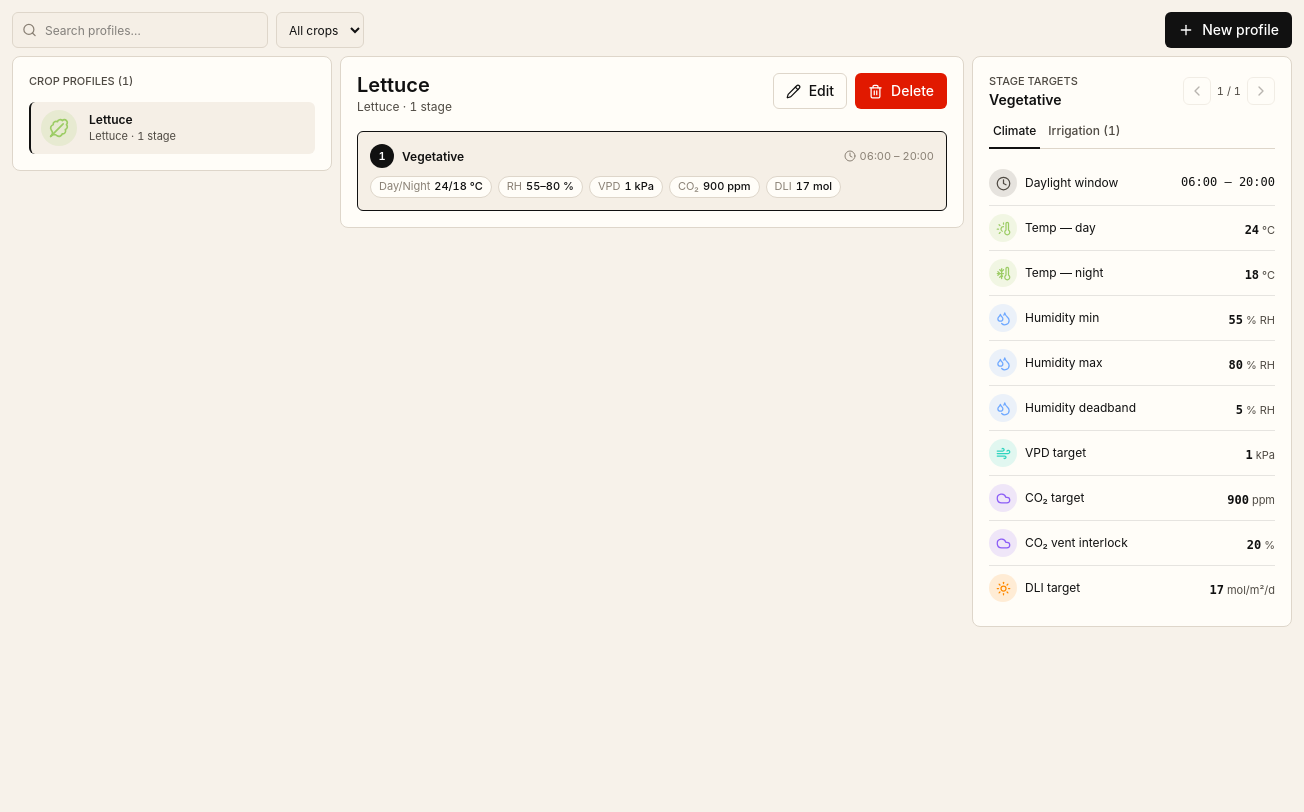
ProfileManagement › renders irrigation zones on the Irrigation tab
This screenshot has width=1304, height=812.
Click the tab "Irrigation (1)". click: (1084, 136)
box: [1044, 122, 1124, 149]
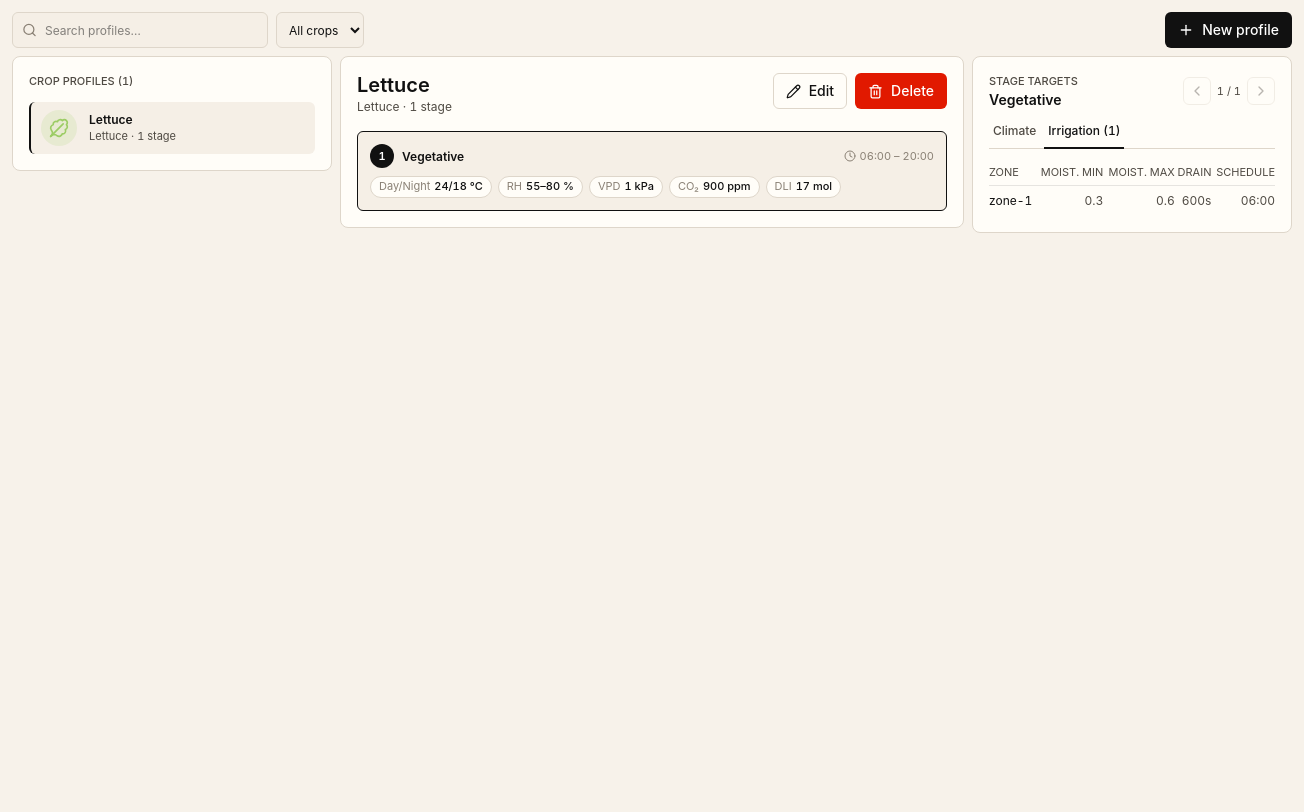
Check: the text "zone-1" is shown, box [989, 186, 1036, 216]
